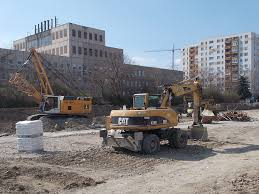excavator: (98, 80, 209, 158)
